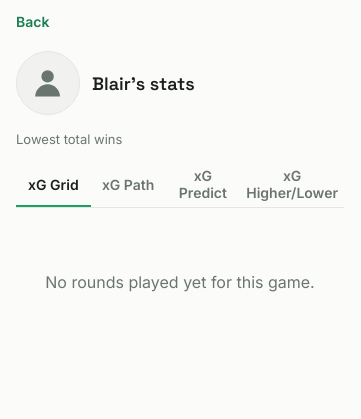
UserStatsScreen › REQ-411: switching the game tab re-fetches, scoped to the newly selected GameKey
This screenshot has width=361, height=419.
Expected: the text "No rounds played yet for this game." is shown, [45, 272, 315, 292]
Click the tab "xG Path" at (128, 185), box [91, 163, 166, 207]
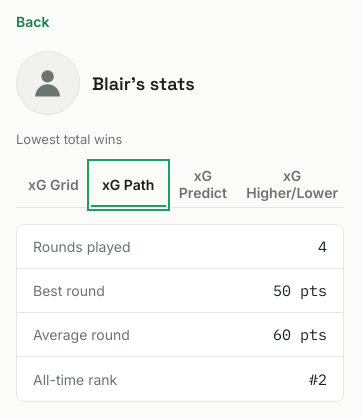
Expected: the text "50 pts" is shown, [273, 281, 327, 300]
